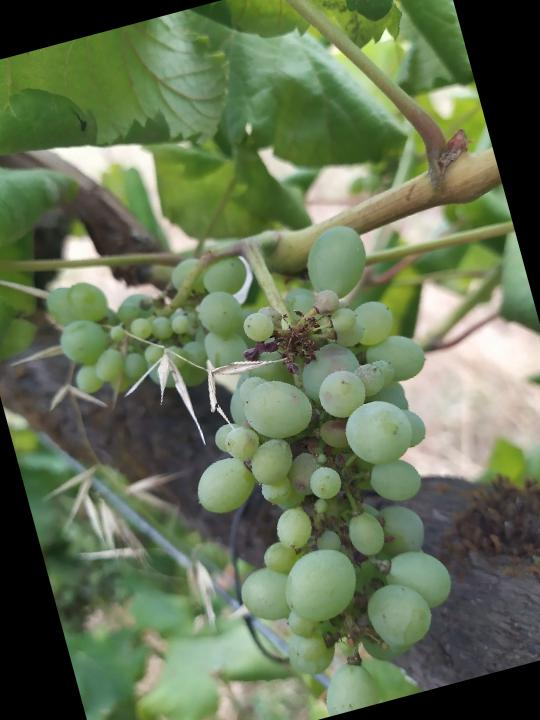grape: (137, 208, 513, 720)
